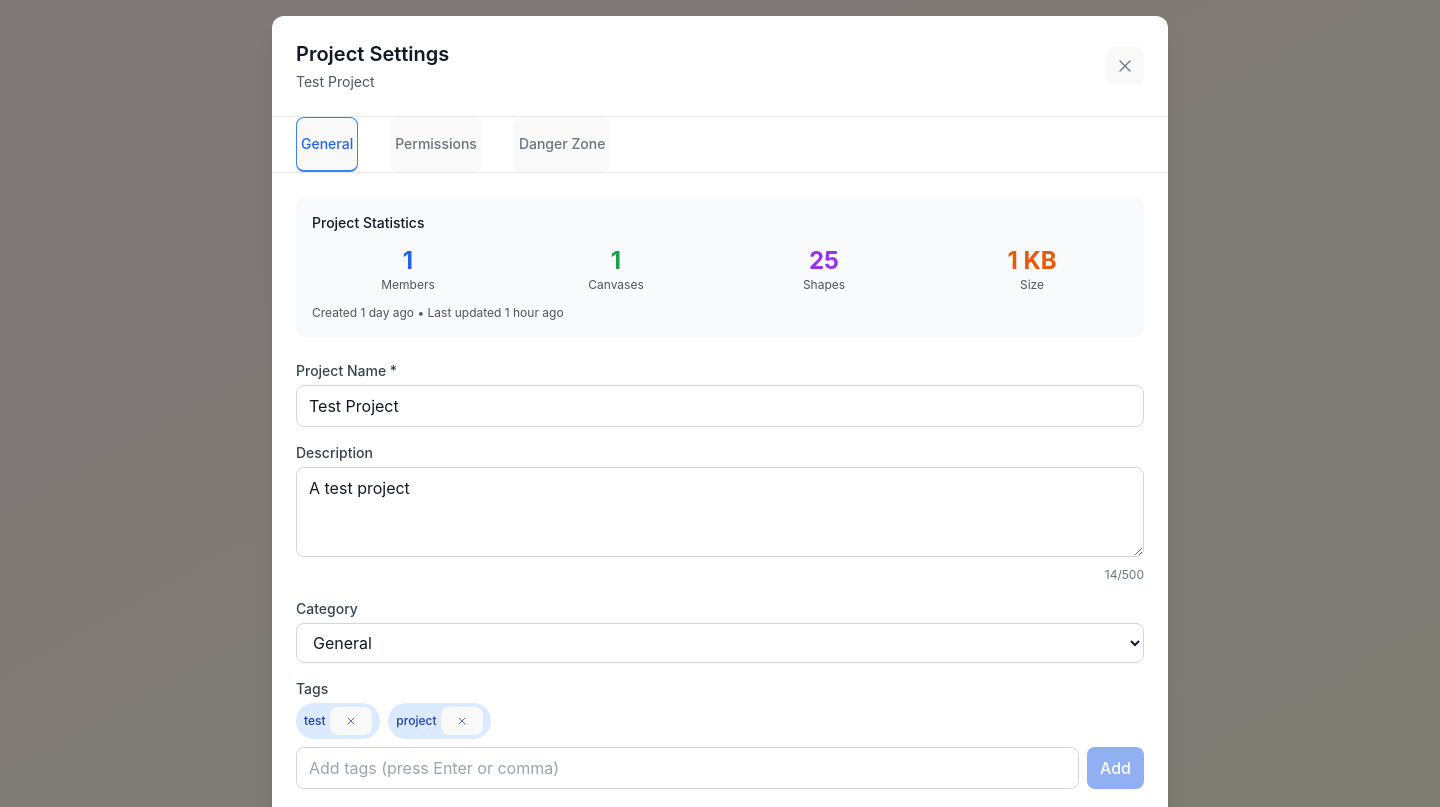
ProjectSettingsModal › Tab Navigation › should switch to permissions tab when clicked
Click the button "Permissions" at coordinates (436, 144), box [390, 117, 482, 172]
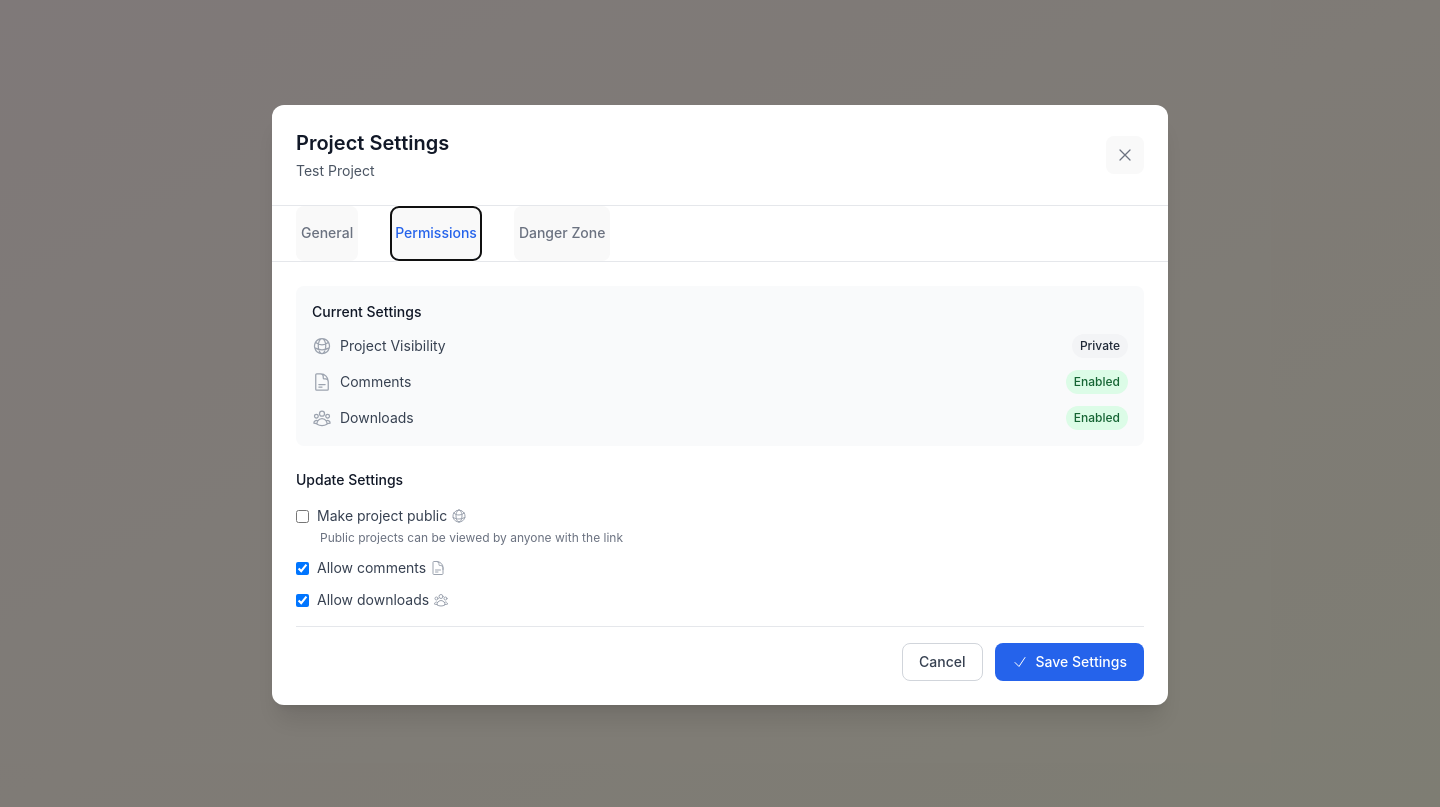
Now the heading "Current Settings" is shown, box [312, 303, 422, 320]
